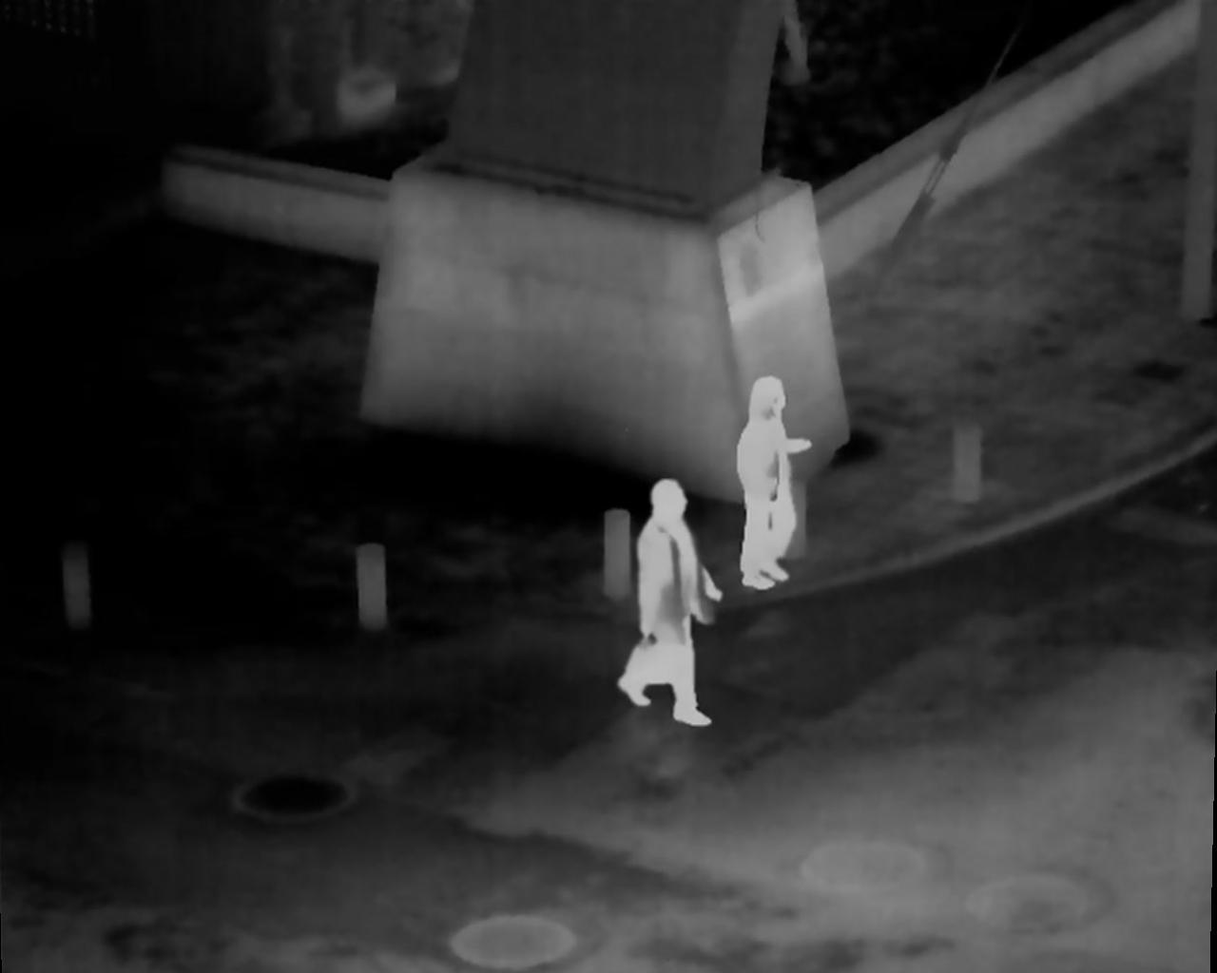person: (617, 474, 723, 726), (735, 374, 809, 587)
